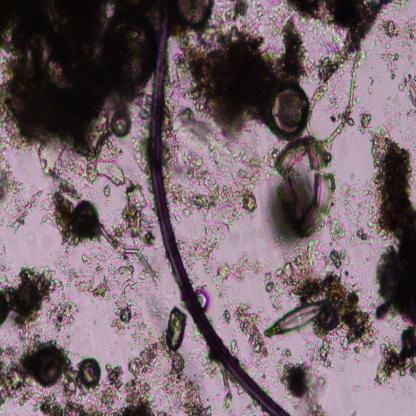Background material: (0, 0, 160, 159), (262, 238, 380, 360), (166, 24, 276, 136), (368, 127, 416, 330), (100, 180, 162, 285), (38, 134, 130, 196), (0, 265, 63, 336), (366, 0, 416, 79), (189, 184, 258, 240), (118, 338, 166, 416), (0, 330, 38, 416), (164, 352, 215, 416), (50, 238, 104, 298), (0, 168, 44, 236), (371, 324, 416, 389), (158, 138, 218, 186), (270, 18, 315, 81), (38, 174, 79, 241), (285, 0, 369, 30), (282, 362, 328, 416), (162, 101, 218, 145), (92, 262, 146, 306), (211, 256, 263, 301), (232, 300, 268, 362), (111, 302, 156, 350), (179, 226, 218, 276), (235, 142, 279, 186), (94, 361, 126, 416), (33, 390, 99, 416), (334, 182, 370, 228), (47, 292, 84, 333), (311, 27, 340, 78), (166, 175, 194, 225), (159, 304, 187, 354), (214, 0, 260, 25), (250, 0, 288, 28), (63, 348, 82, 399), (131, 136, 153, 178), (217, 362, 234, 409), (0, 126, 17, 171), (326, 81, 344, 123), (380, 95, 401, 130), (213, 142, 236, 172), (196, 348, 218, 377), (146, 293, 168, 321), (0, 246, 16, 284), (316, 337, 334, 370), (327, 218, 345, 247), (328, 247, 348, 271), (261, 236, 285, 255), (356, 106, 372, 134), (346, 228, 366, 248), (220, 300, 234, 327), (196, 282, 209, 310), (256, 359, 270, 384), (398, 377, 414, 398), (36, 333, 58, 348), (404, 124, 416, 149), (242, 400, 260, 416), (270, 365, 283, 386), (403, 105, 416, 126), (277, 348, 292, 364), (344, 257, 355, 276), (333, 360, 347, 373), (350, 381, 365, 393), (229, 339, 240, 355), (251, 228, 265, 240), (367, 76, 376, 94), (359, 48, 370, 60), (104, 184, 111, 199), (354, 97, 363, 106), (370, 249, 375, 260), (399, 82, 404, 92), (364, 257, 370, 264), (351, 410, 357, 416), (92, 319, 98, 325), (350, 172, 354, 180), (369, 64, 373, 69), (367, 380, 370, 383)
Cellulose filter fibre: (306, 30, 365, 146)
Diatom: (262, 135, 333, 239), (99, 16, 153, 94), (264, 299, 324, 339), (270, 84, 312, 137), (34, 346, 65, 388), (69, 199, 99, 240), (176, 0, 216, 28), (77, 356, 102, 389), (107, 111, 133, 138), (318, 304, 338, 330), (402, 74, 416, 108), (0, 295, 9, 326)
Microfibre: (148, 0, 289, 416)
